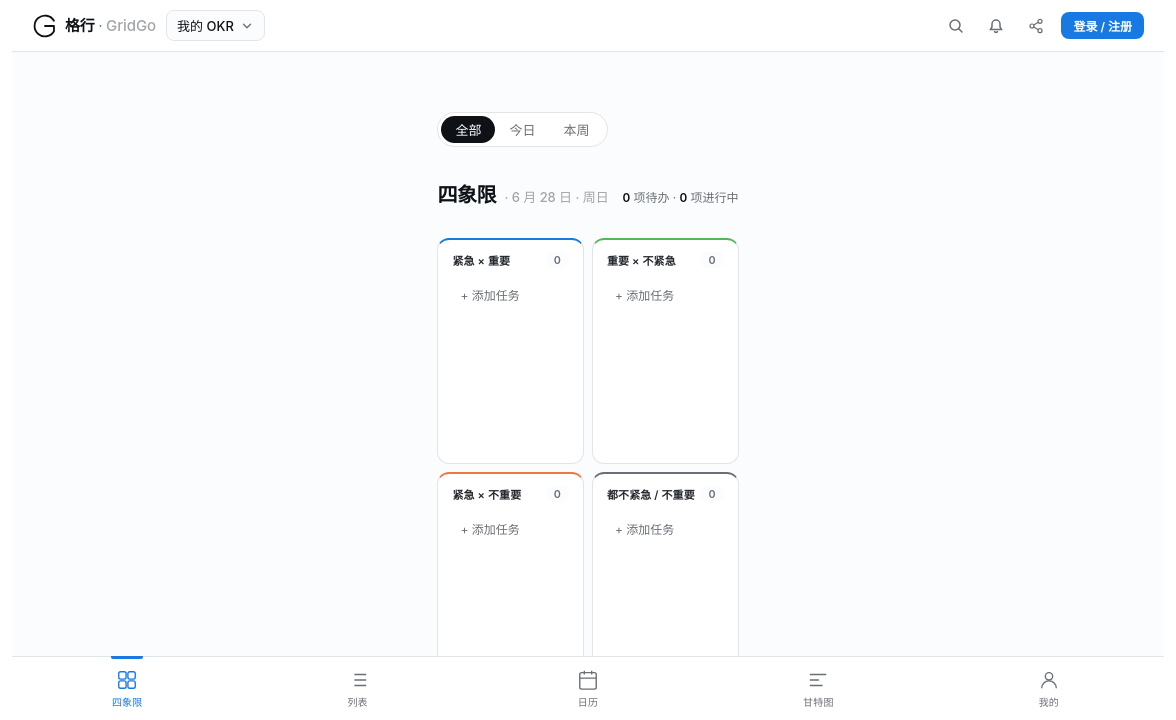
Test: 日常操作 7 步流程 › 4. 切到 Calendar Tab，能看到月/周/日 3 个子 Tab
This screenshot has width=1176, height=720.
Step 1. Click the tab "日历" → point(588, 688), box [473, 657, 703, 719]
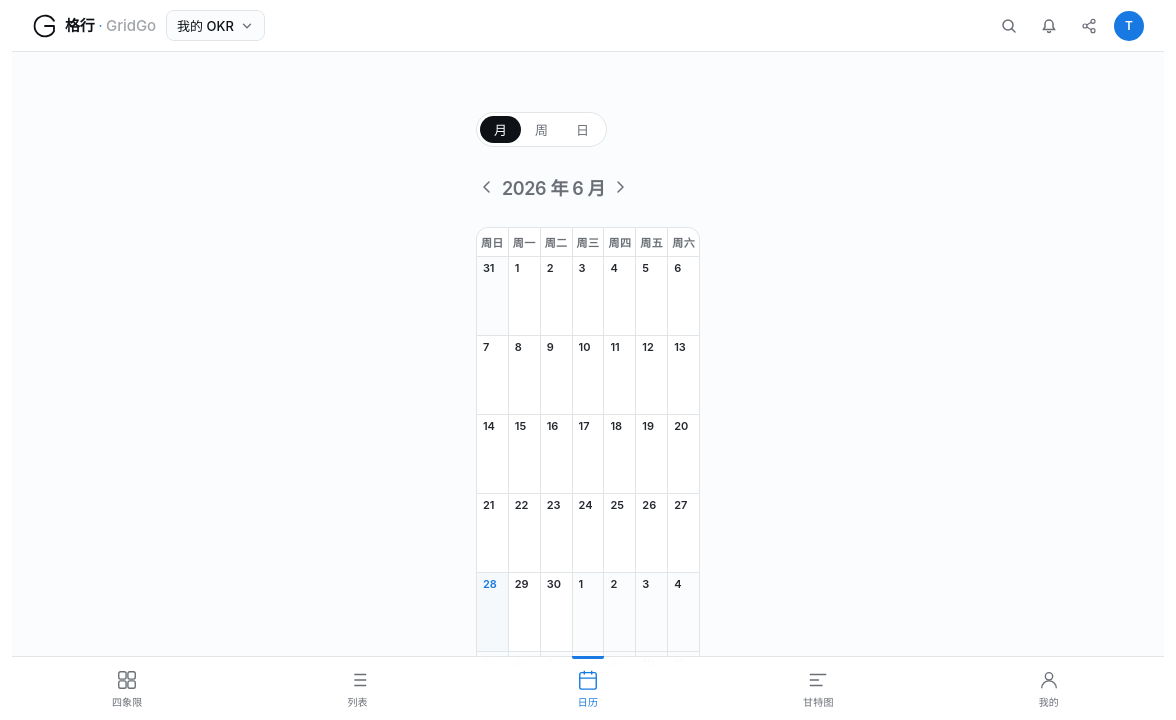
Expected: the tab "月" is shown, [480, 116, 521, 143]
Expected: the tab "周" is shown, [521, 116, 562, 143]
Expected: the tab "日" is shown, [562, 116, 603, 143]
